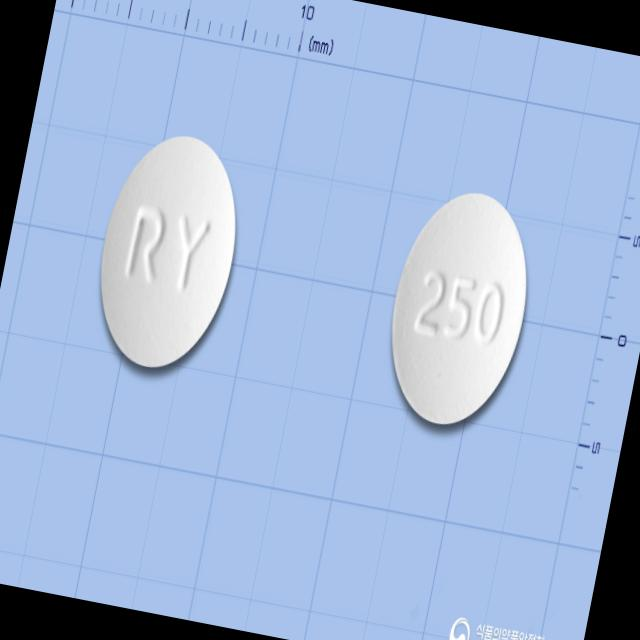Cipurocin: (367, 173, 552, 452), (76, 116, 260, 390)
